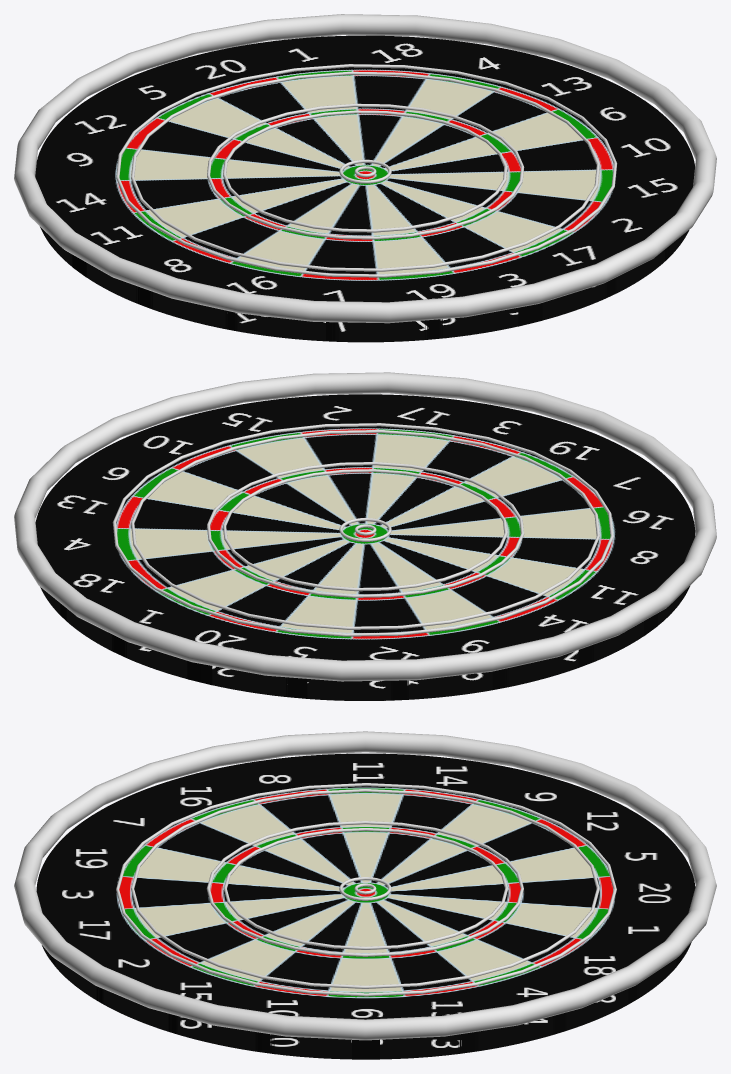
File: Dartboard.FBX
The picture shows the model from 3 angles, top to bottom: view 1: azimuth 30°, elevation 25°; view 2: azimuth 150°, elevation 25°; view 3: azimuth 270°, elevation 25°; orthographic projection.
Visible parts, largest first — view 1: Dartboard, Circle002, DartLargeRing, LargeInnerRing, MediumRingOutter, MediumInnerRing; view 2: Dartboard, Circle002, DartLargeRing, LargeInnerRing, MediumRingOutter, MediumInnerRing; view 3: Dartboard, Circle002, DartLargeRing, LargeInnerRing, MediumRingOutter, MediumInnerRing.
Boxes of the visible parts, bbox=[...] form: Dartboard: bbox=[35, 35, 694, 342]; Circle002: bbox=[14, 14, 716, 323]; DartLargeRing: bbox=[116, 64, 617, 277]; LargeInnerRing: bbox=[131, 71, 599, 271]; MediumRingOutter: bbox=[207, 103, 524, 239]; MediumInnerRing: bbox=[223, 110, 507, 232]; Dartboard: bbox=[35, 394, 695, 700]; Circle002: bbox=[14, 372, 716, 681]; DartLargeRing: bbox=[112, 423, 613, 636]; LargeInnerRing: bbox=[131, 430, 599, 629]; MediumRingOutter: bbox=[207, 462, 524, 597]; MediumInnerRing: bbox=[223, 469, 507, 591]; Dartboard: bbox=[36, 753, 695, 1059]; Circle002: bbox=[14, 731, 716, 1040]; DartLargeRing: bbox=[116, 783, 616, 996]; LargeInnerRing: bbox=[131, 789, 599, 988]; MediumRingOutter: bbox=[206, 821, 523, 956]; MediumInnerRing: bbox=[223, 828, 508, 949].
Size of the model in its own units: 112 by 7.69 by 112.
1 material, 1 textured.
